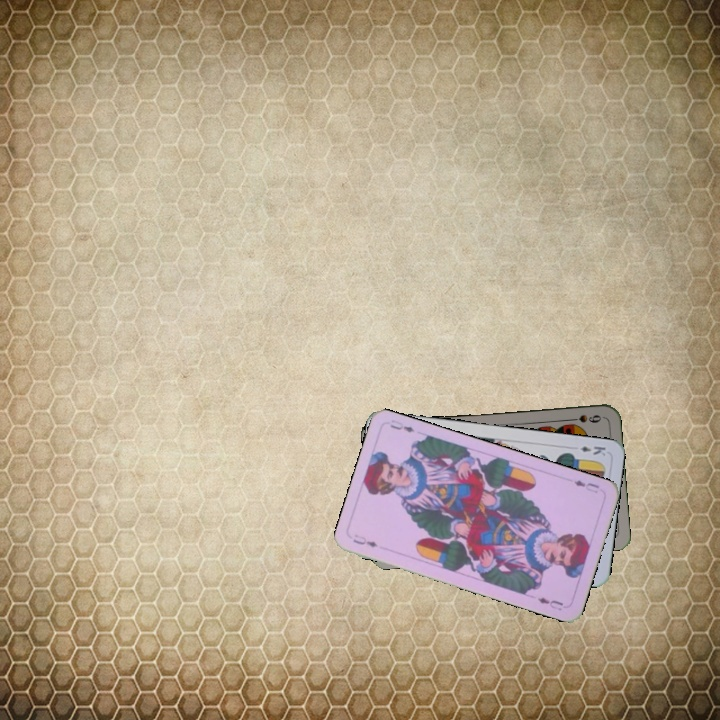EK: (576, 442, 608, 458)
EU: (570, 476, 602, 496), (349, 530, 380, 550)
S9: (564, 410, 604, 425)
